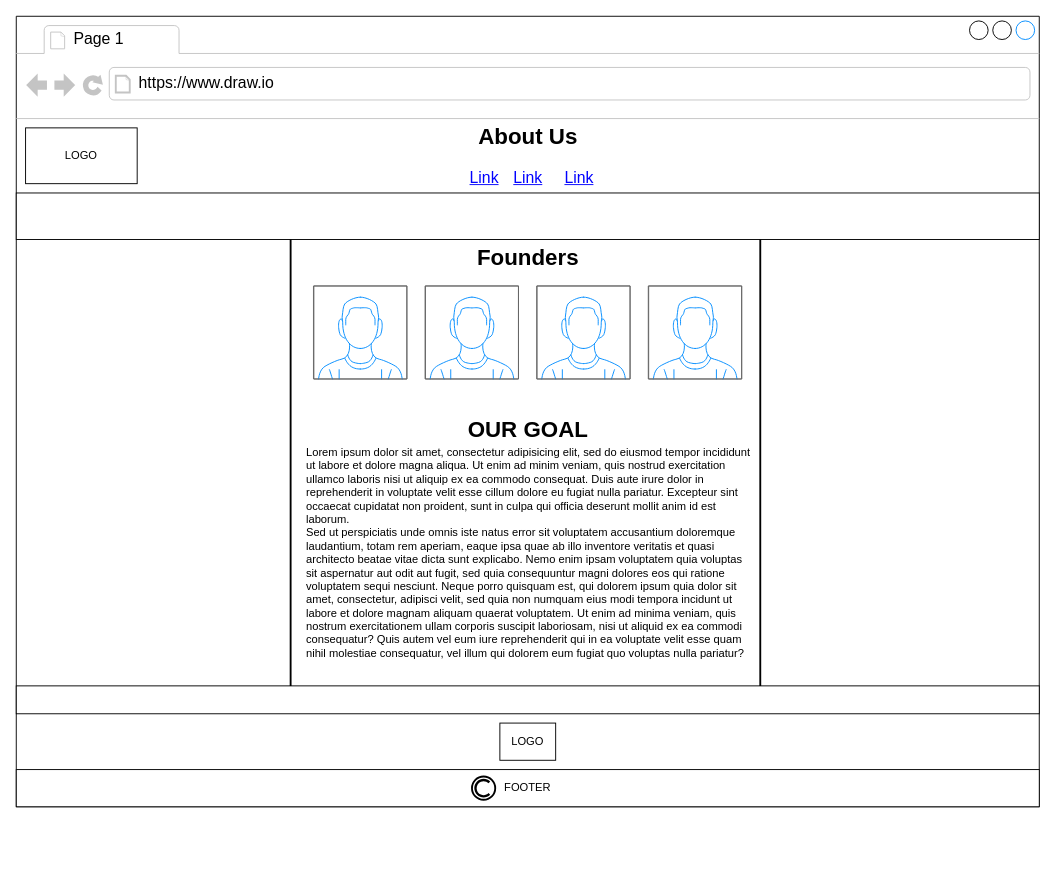
The diagram is 1056 pixels wide and 879 high, and some of its shapes have lost their labels. Each missing label, with the centre of its shape:
"BANNER/ COOL PIC" belongs at (527,215).
"DISCLAIMER" belongs at (527,699).
